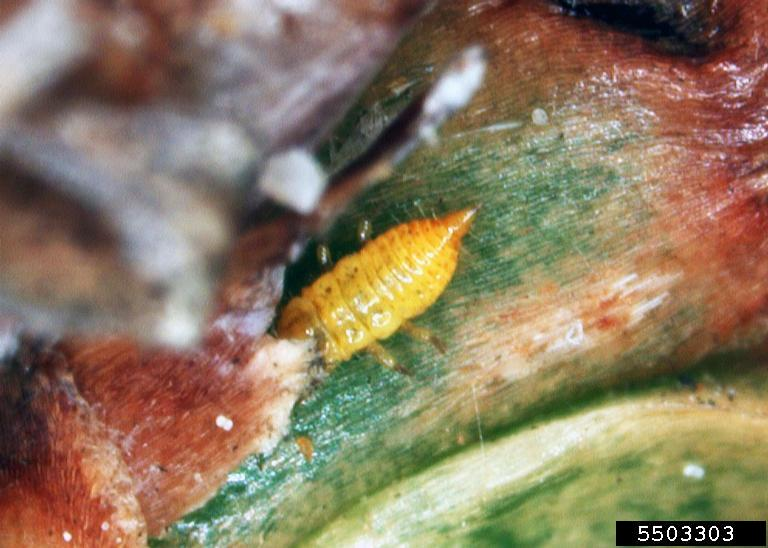Thrips: (280, 199, 495, 387)
